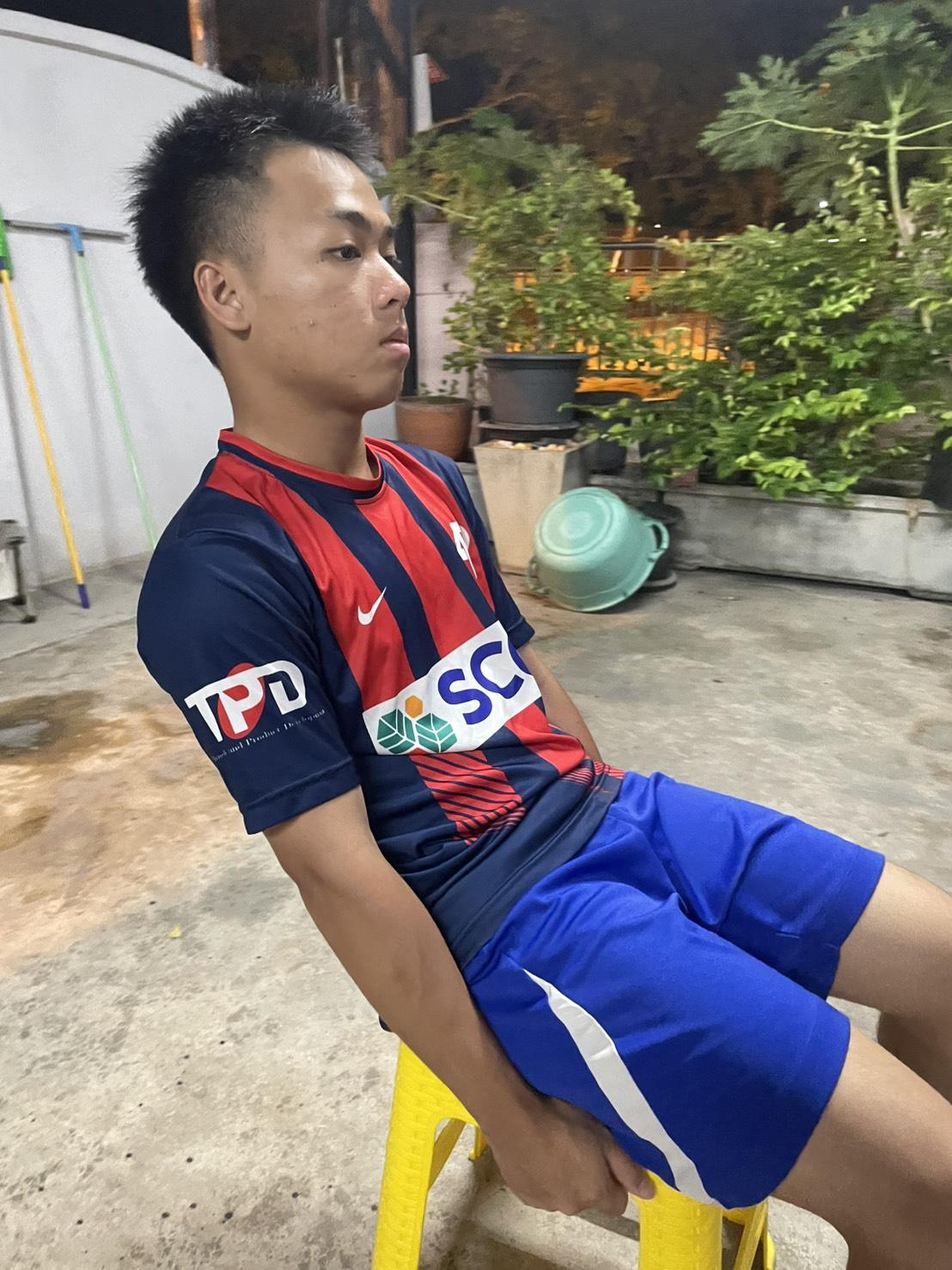BadPosture: (129, 84, 951, 1269), (131, 86, 619, 955)
